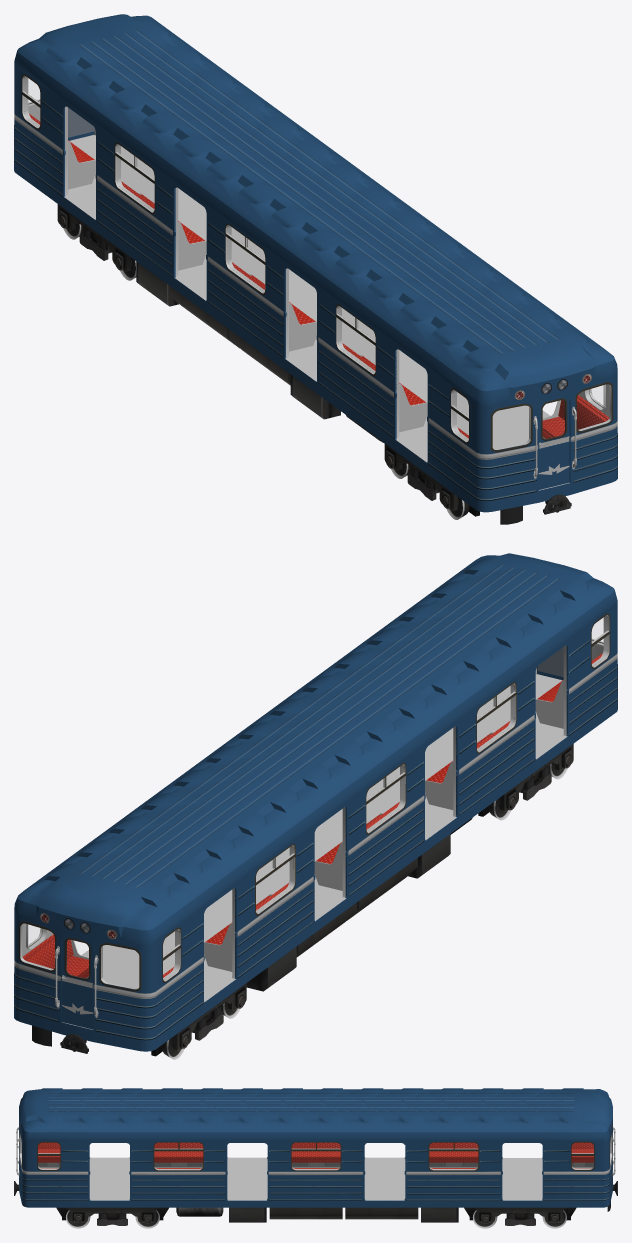
The model's file is SubwayTrain03_Body2.FBX.
The picture shows the model from 3 angles, top to bottom: view 1: azimuth 30°, elevation 25°; view 2: azimuth 150°, elevation 25°; view 3: azimuth 270°, elevation 25°; orthographic projection. The views are drawn at different scales.
Visible parts, largest first — view 1: SubwayTrain03_Roof, SubwayTrain03_Body1, SubwayTrain03_Inter, SubwayTrain03_Wheels, SubwayTrain03_InterBench, SubwayTrain_Bench01b, SubwayTrain03_DoorF1; view 2: SubwayTrain03_Roof, SubwayTrain03_Body1, SubwayTrain03_Inter, SubwayTrain03_Wheels, SubwayTrain03_InterBench, SubwayTrain_Bench01b, SubwayTrain03_DoorF2; view 3: SubwayTrain03_Body1, SubwayTrain03_Roof, SubwayTrain03_Inter, SubwayTrain03_Wheels, SubwayTrain_Bench01b, SubwayTrain03_Inter2.
Boxes of the visible parts, x1,y1,x2,y2 form: SubwayTrain03_Roof: (17,14,614,391); SubwayTrain03_Body1: (14,50,617,512); SubwayTrain03_Inter: (22,76,611,490); SubwayTrain03_Wheels: (57,204,571,524); SubwayTrain03_InterBench: (68,141,561,432); SubwayTrain_Bench01b: (29,114,609,438); SubwayTrain03_DoorF1: (538,396,569,489); SubwayTrain03_Roof: (17,553,614,930); SubwayTrain03_Body1: (14,590,617,1051); SubwayTrain03_Inter: (20,615,609,1029); SubwayTrain03_Wheels: (32,744,573,1059); SubwayTrain03_InterBench: (71,680,563,971); SubwayTrain_Bench01b: (23,653,602,978); SubwayTrain03_DoorF2: (61,935,93,1029); SubwayTrain03_Body1: (19,1117,612,1207); SubwayTrain03_Roof: (19,1088,612,1132); SubwayTrain03_Inter: (19,1133,612,1200); SubwayTrain03_Wheels: (14,1181,617,1228); SubwayTrain_Bench01b: (38,1142,593,1168); SubwayTrain03_Inter2: (16,1127,615,1176).
Bounding box in the file's own units: 4082 × 4898 × 24396.
